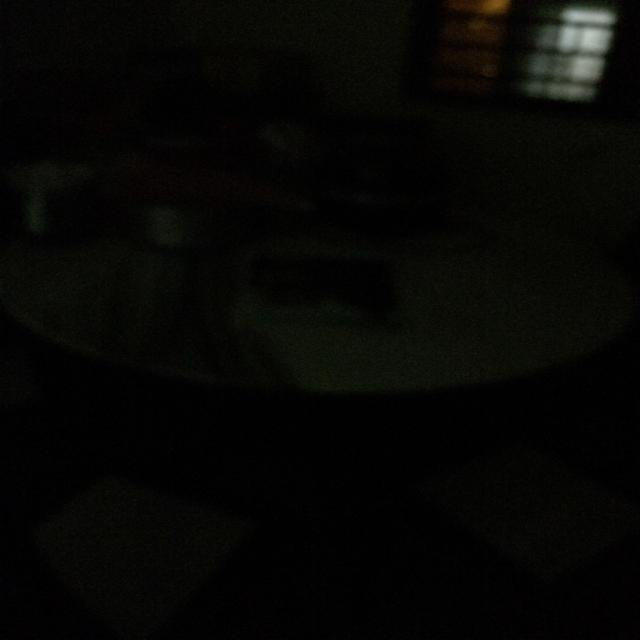Table: (40, 265, 589, 515)
